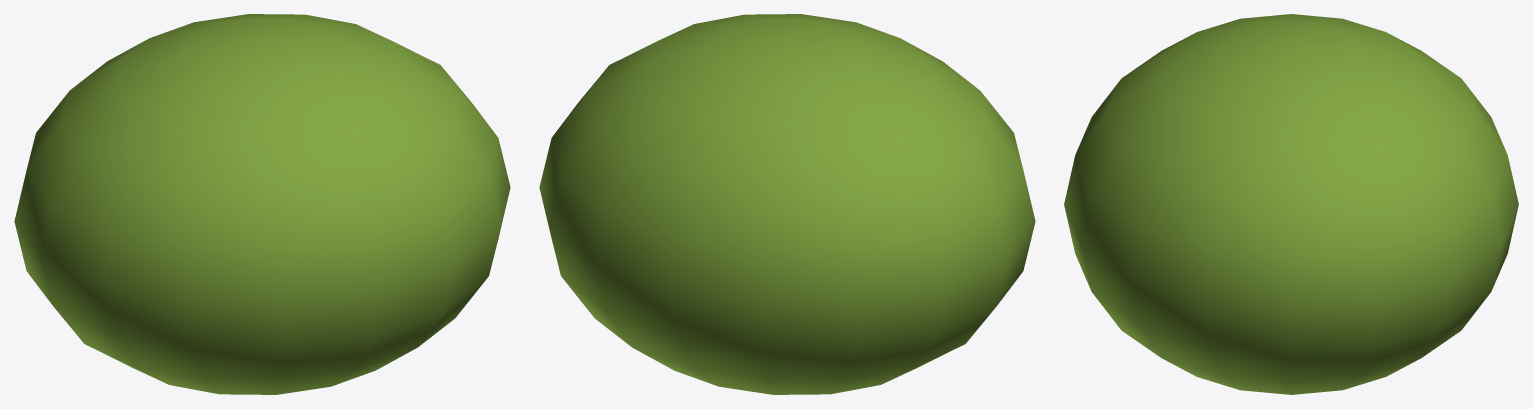
3 renders of one model, left to right at view 1: azimuth 30°, elevation 25°; view 2: azimuth 150°, elevation 25°; view 3: azimuth 270°, elevation 25°, orthographic. The views are drawn at different scales.
Parts seen in each view (by area): view 1: crownProxy; view 2: crownProxy; view 3: crownProxy.
Part boxes in pixels (<box>): crownProxy: <box>14,14,510,394</box>; crownProxy: <box>539,14,1035,394</box>; crownProxy: <box>1064,14,1518,394</box>.
Bounding box in the file's own units: 1.2 × 0.85 × 1.1.
